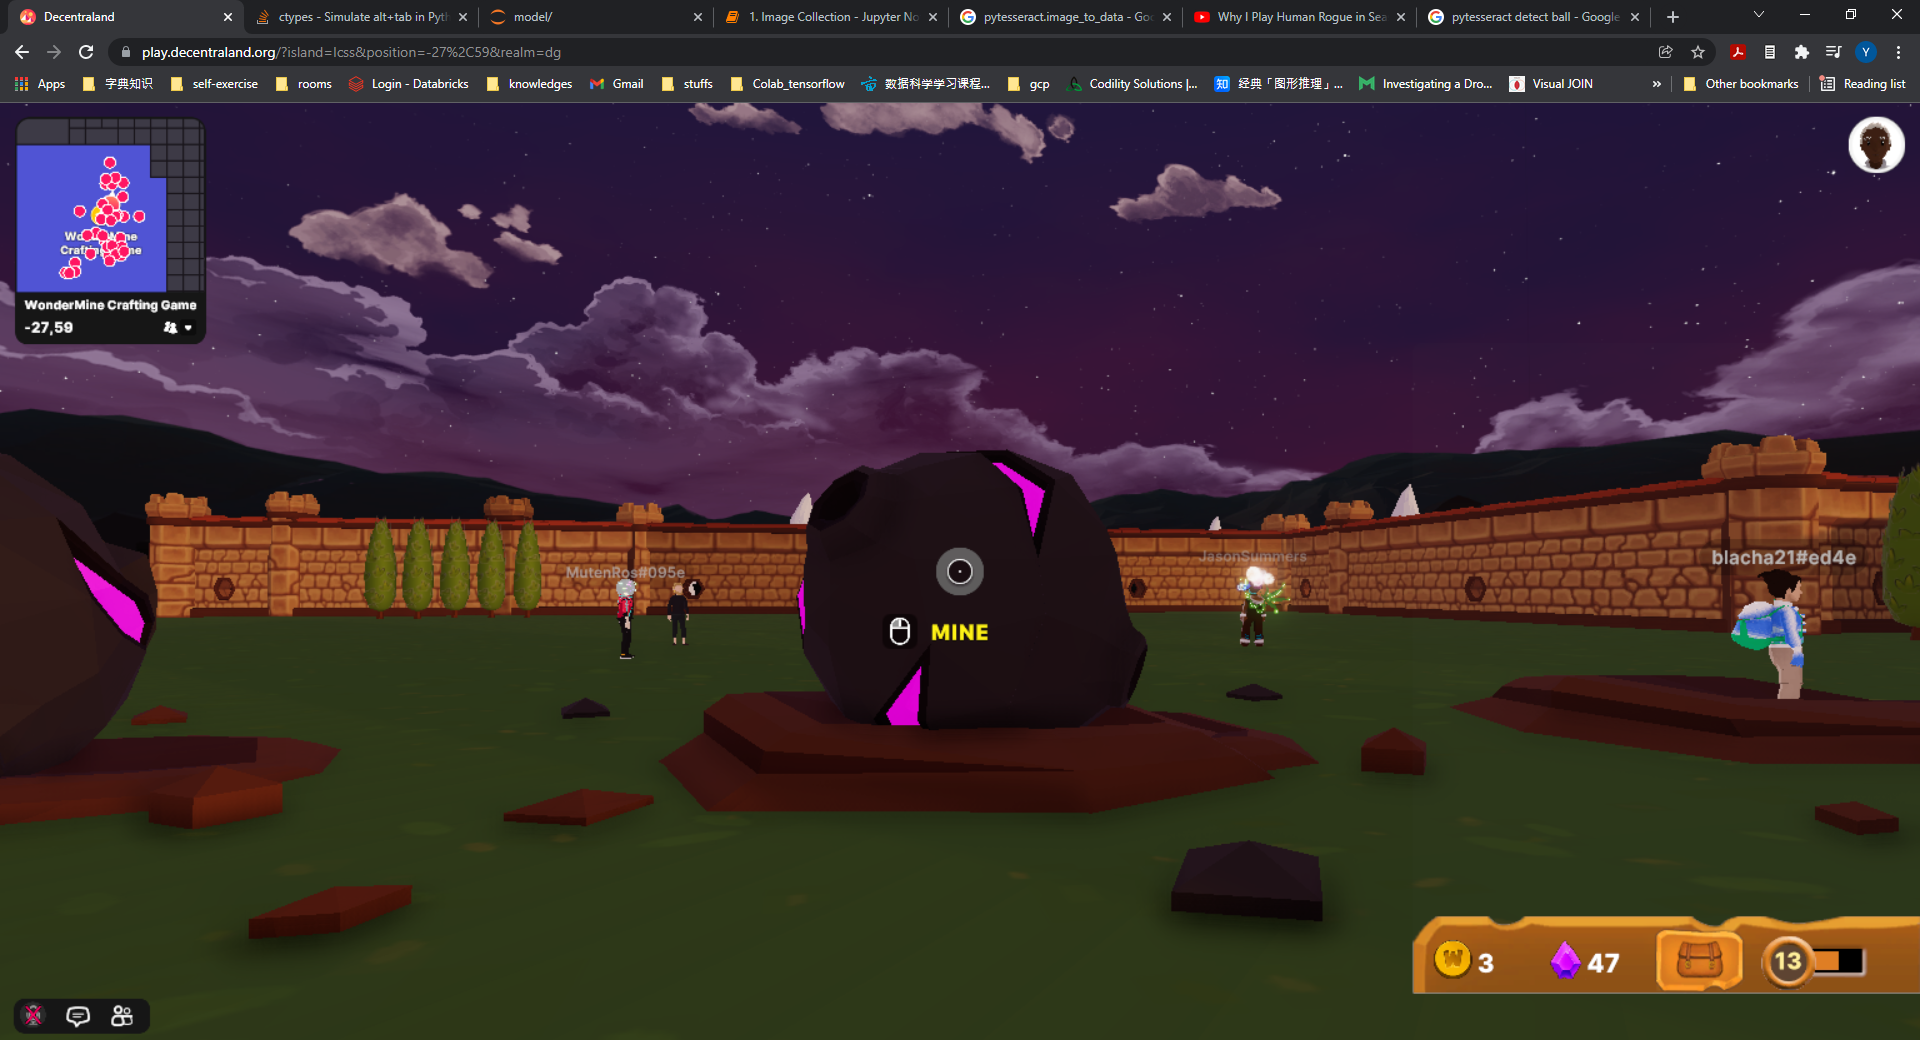black_ball: (786, 442, 1157, 745)
